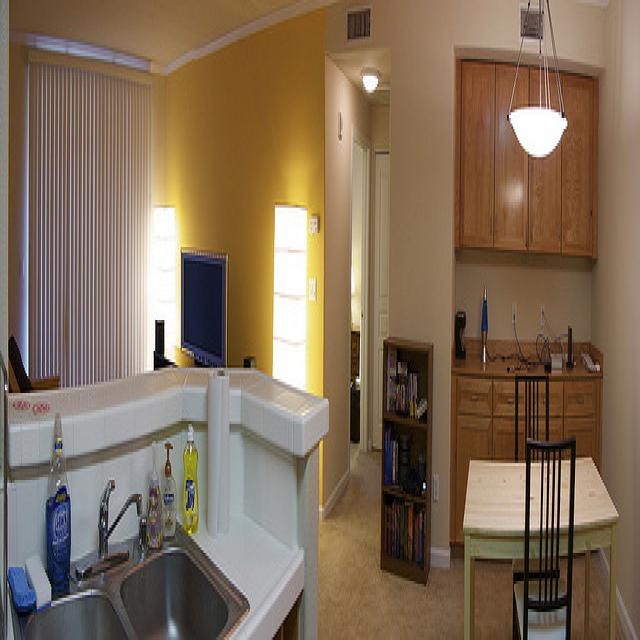chair: (511, 436, 580, 640), (8, 333, 61, 392), (515, 375, 550, 463)
dining table: (462, 455, 620, 637)
